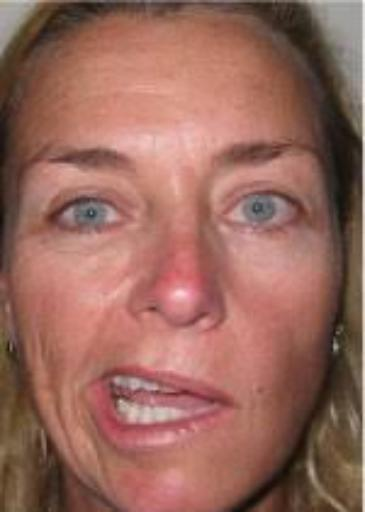left_eye: (222, 196, 305, 235)
left_lip_corner: (209, 384, 248, 419)
right_eye: (46, 200, 132, 237)
right_lip_corner: (83, 369, 115, 397)
